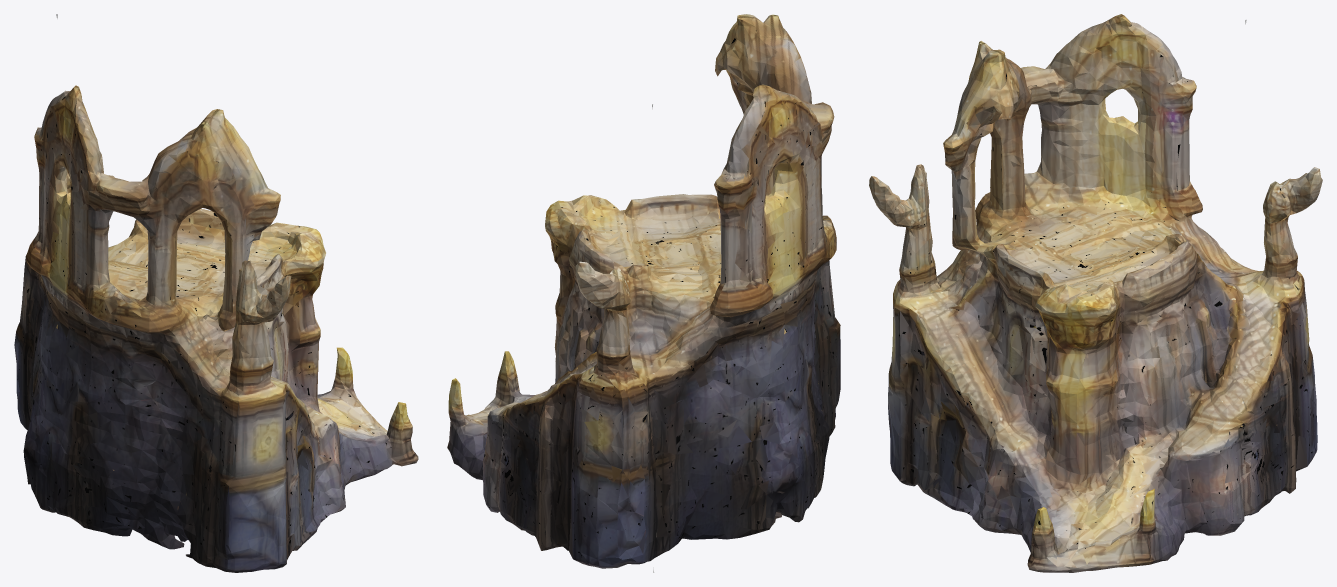
File: cliff_2.glb
3 views of the same model, side by side, from view 1: azimuth 30°, elevation 25°; view 2: azimuth 150°, elevation 25°; view 3: azimuth 270°, elevation 25° (orthographic). The views are drawn at different scales.
Visible parts, largest first — view 1: zzzz29; view 2: zzzz29; view 3: zzzz29.
Part boxes in pixels (<box>): zzzz29: <box>14,14,418,572</box>; zzzz29: <box>447,14,840,572</box>; zzzz29: <box>869,14,1322,572</box>.
Size of the model in its own units: 4.22 by 5.32 by 4.92.
1 material, 1 textured.
